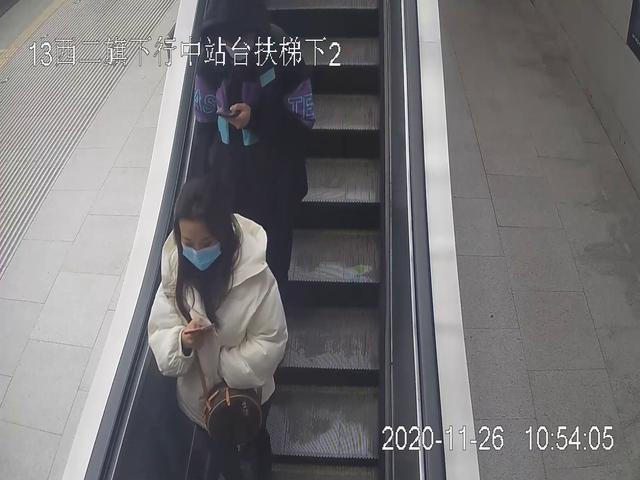person: (146, 180, 290, 480), (194, 1, 314, 357)
